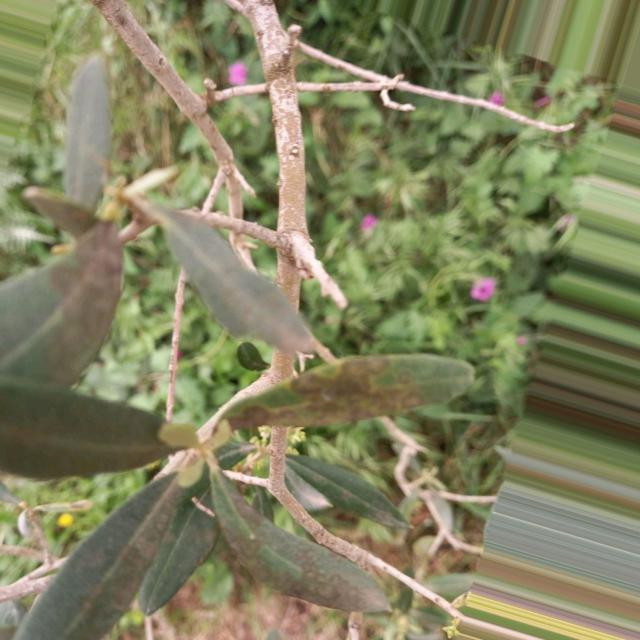OlivePeacockSpot: (210, 467, 390, 613), (221, 354, 474, 430)
